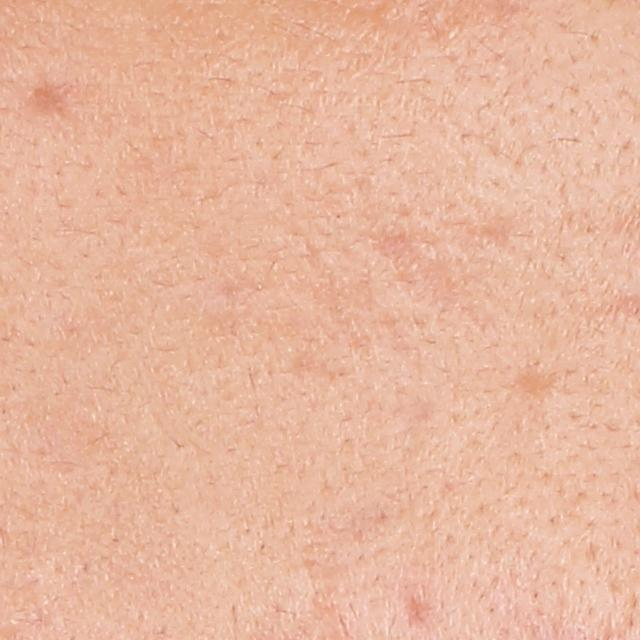atrophic_scar: (369, 229, 438, 285), (19, 72, 84, 126), (404, 589, 430, 627)
